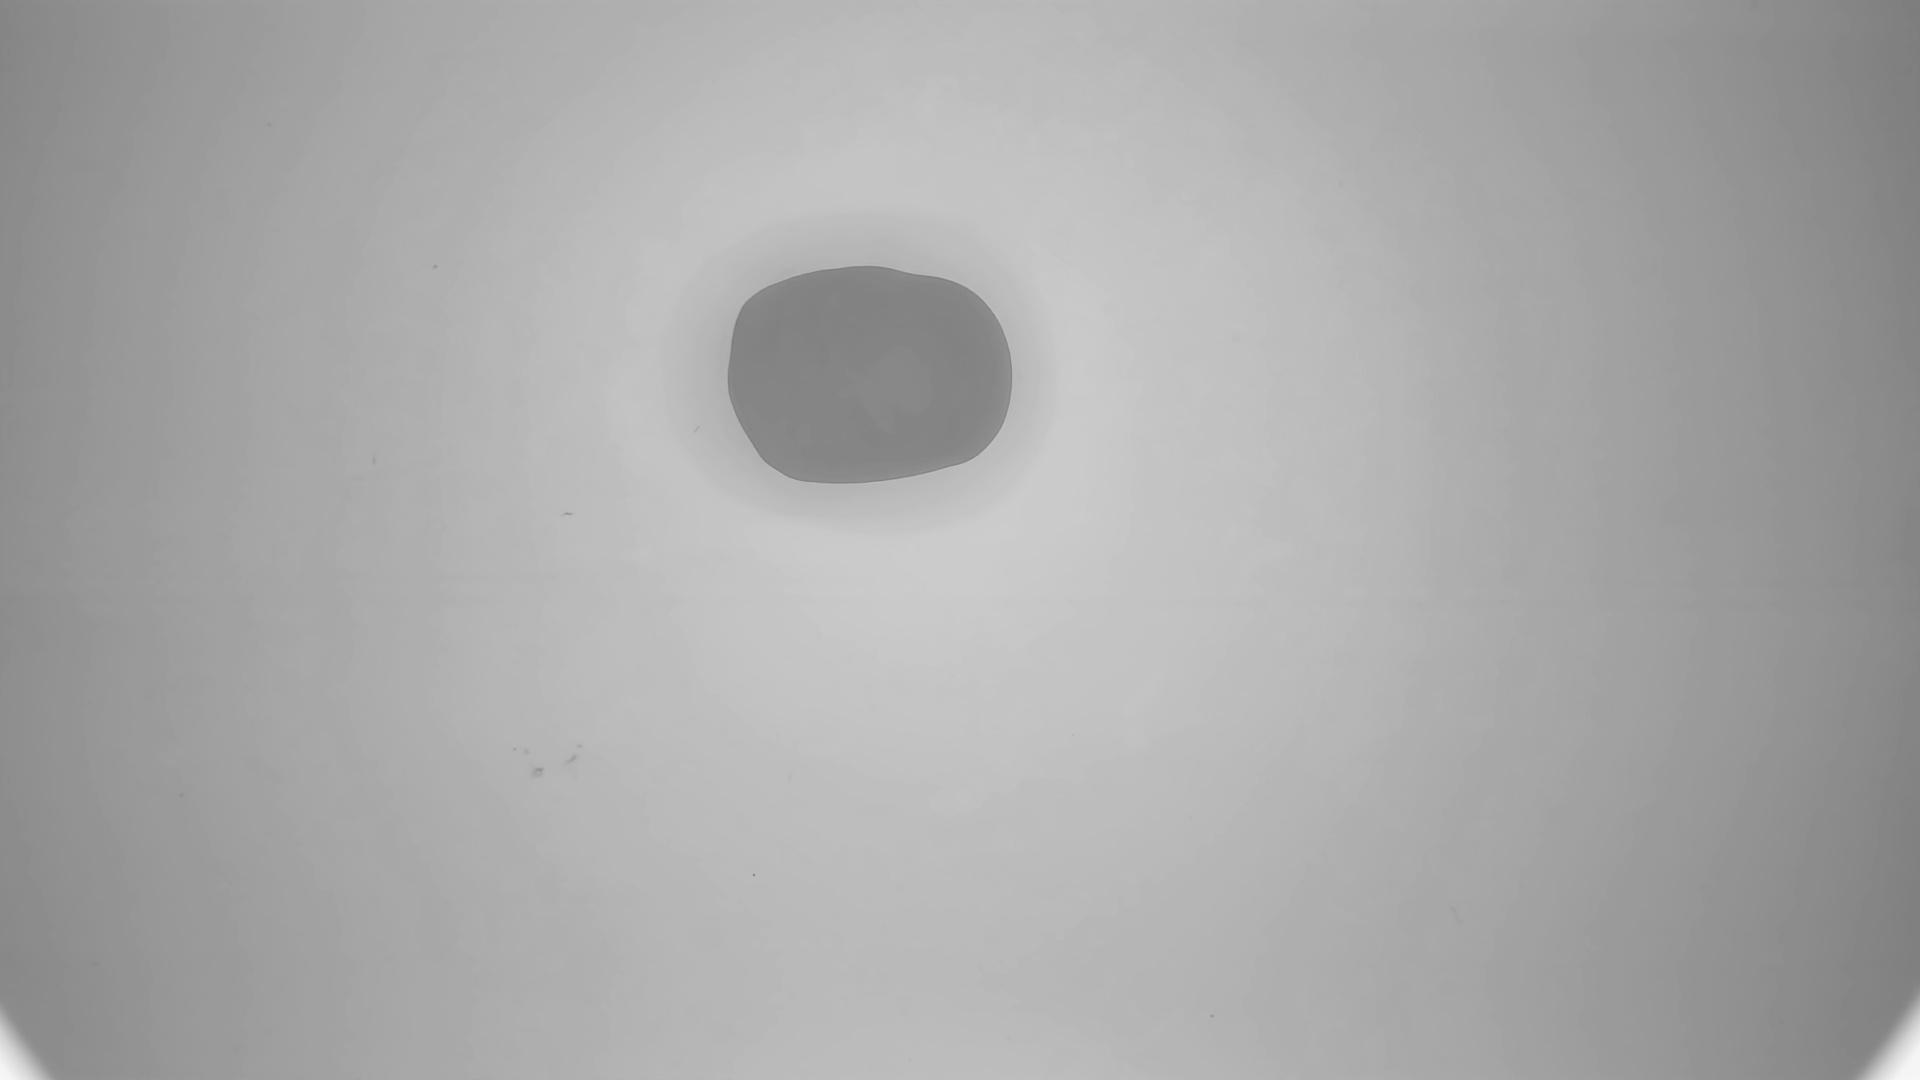abnormal: (727, 262, 1017, 488)
